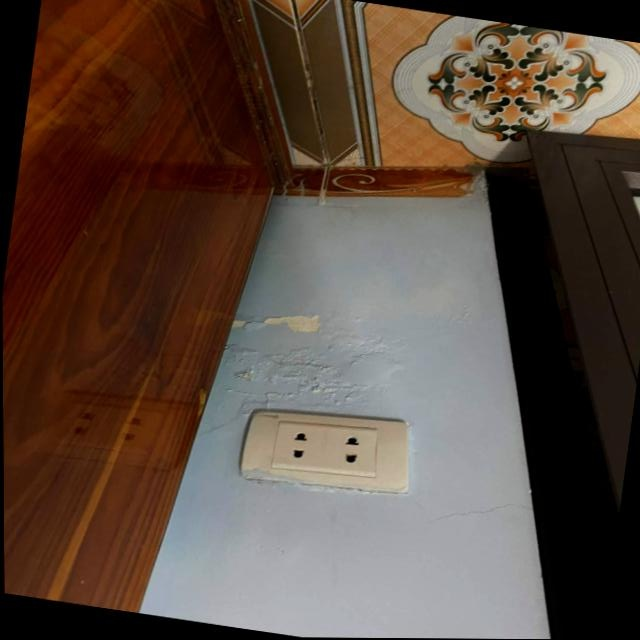outlet: (237, 397, 420, 504)
